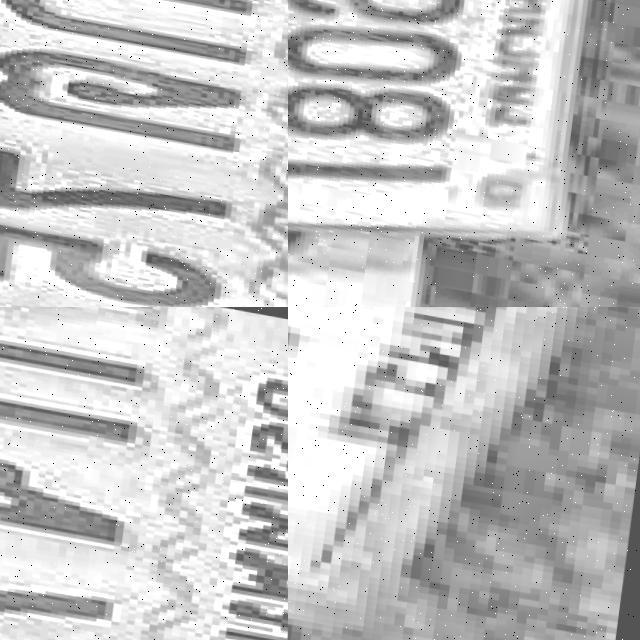license-plate: (288, 307, 640, 640), (288, 0, 630, 286), (0, 307, 288, 640), (0, 0, 288, 307)
